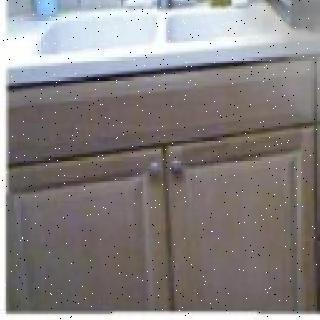smoke: (270, 0, 320, 168)
